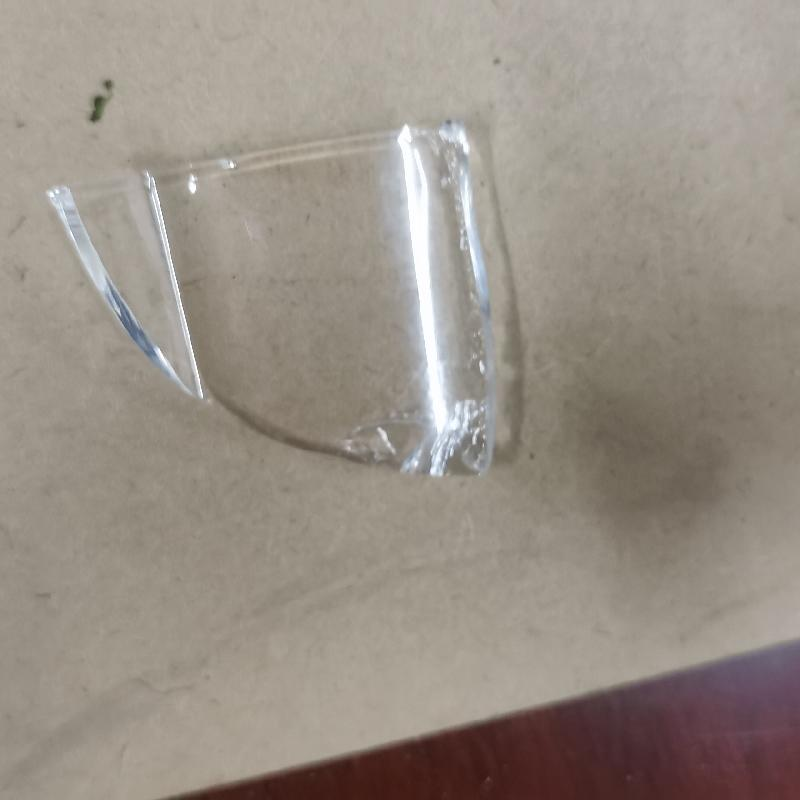glass: (45, 120, 498, 480)
